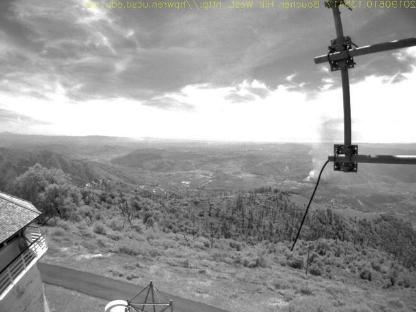smoke: (304, 118, 344, 182)
